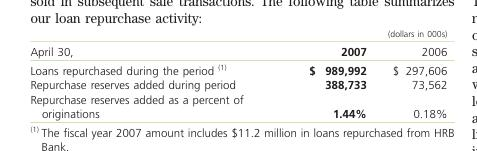table: (29, 28, 446, 119)
table column: (29, 28, 275, 119), (275, 28, 378, 119), (378, 28, 446, 119)
table column header: (29, 28, 446, 59)
table row: (29, 91, 446, 119), (29, 41, 446, 59), (29, 59, 446, 77), (29, 77, 446, 91), (29, 28, 446, 41)
table spanning cell: (29, 28, 275, 59), (275, 28, 446, 41)
